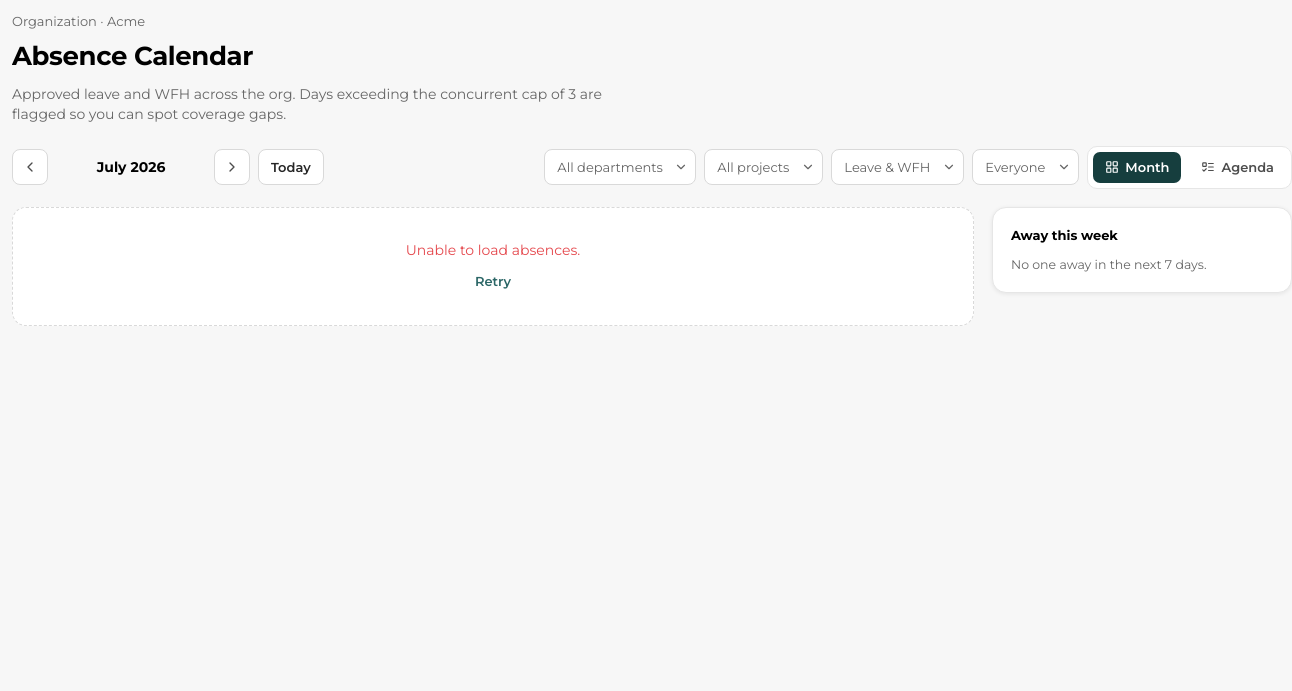
it: shows an error state with Retry when loading absences fails
Expected: the text "Unable to load absences." is shown, [406, 241, 580, 259]
Step 1. Click the button "Retry" → [493, 282], box [475, 272, 511, 292]
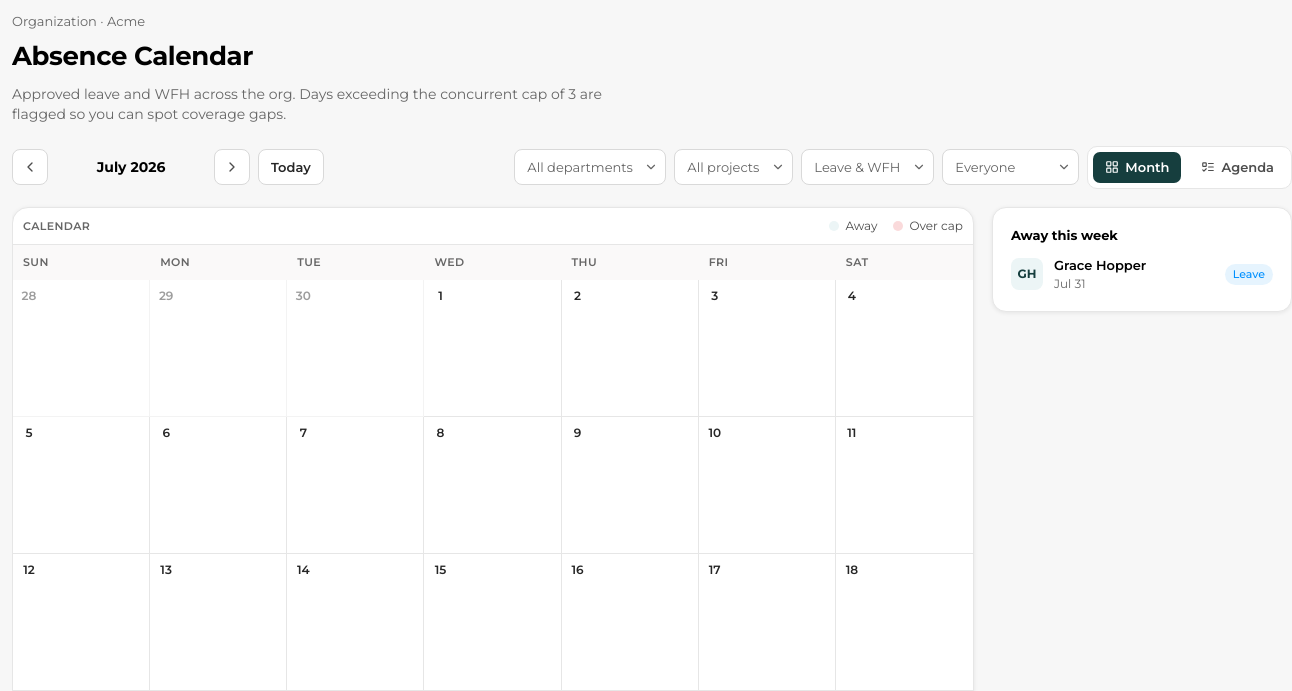
Expected: the text "Grace Hopper" is shown, [1054, 256, 1146, 272]
